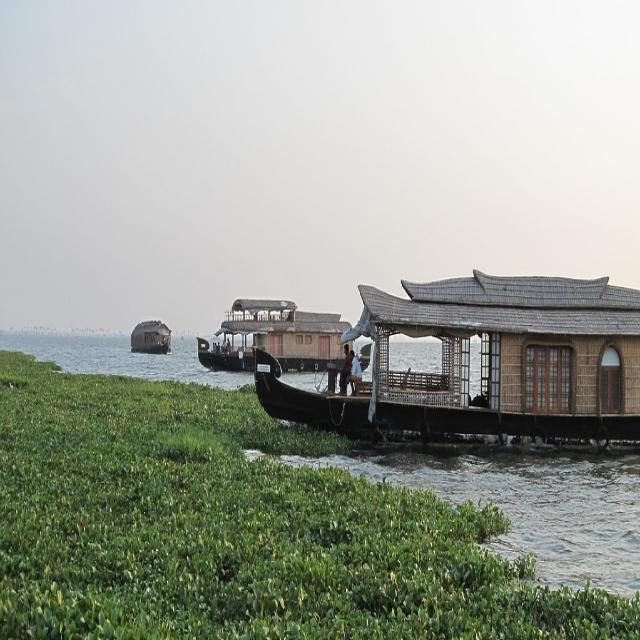boat: (243, 274, 640, 429), (192, 312, 386, 371), (130, 314, 178, 355)
